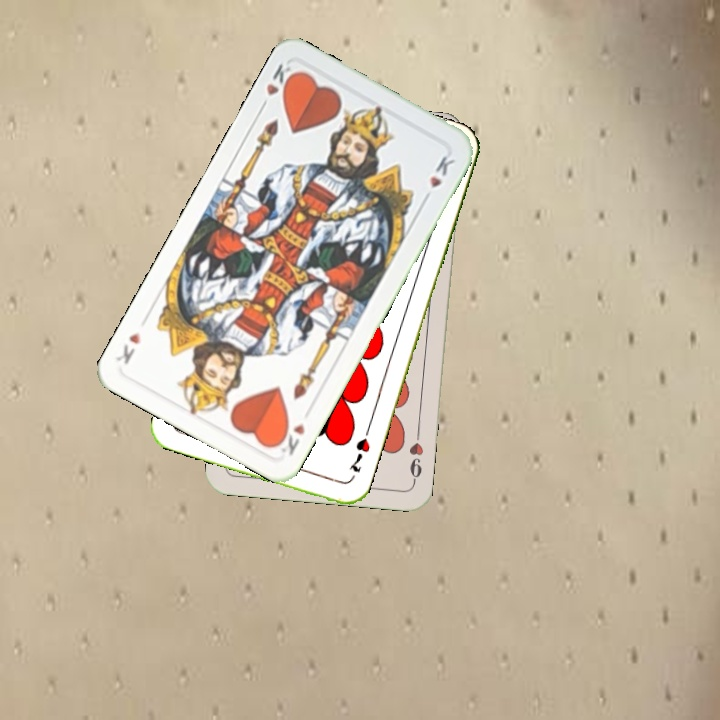H7: (346, 434, 373, 475)
H9: (405, 426, 426, 486)
HK: (255, 59, 299, 113), (271, 417, 308, 459)
